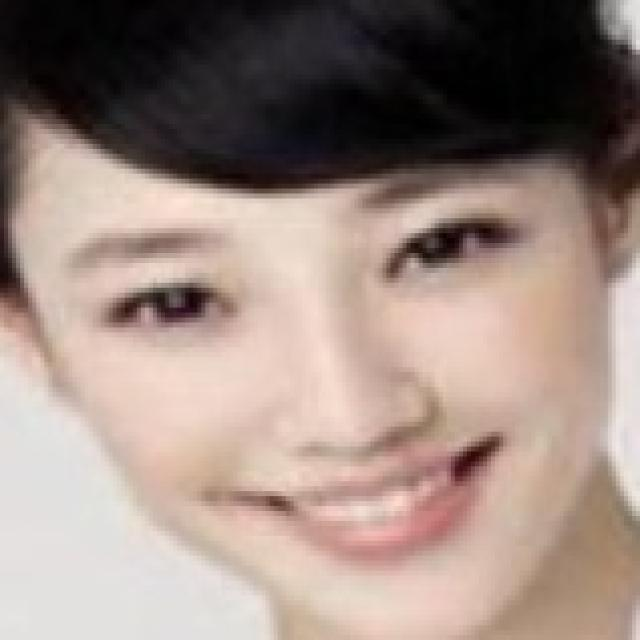no_mask: (39, 111, 575, 586)
